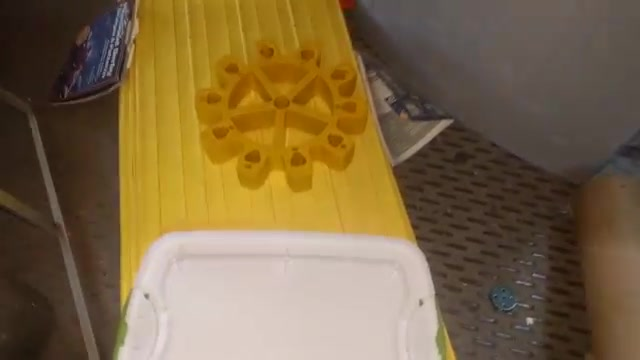gear: (184, 22, 385, 199)
